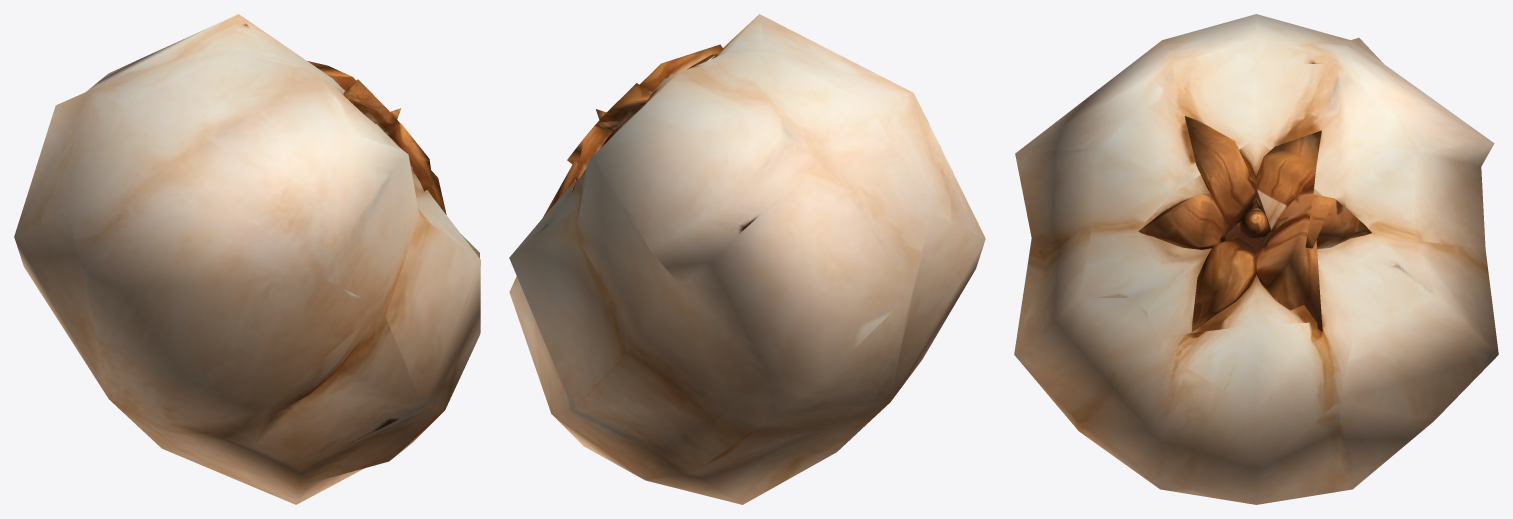
File: kapok_cotton_v2.glb
3 renders of one model, left to right at view 1: azimuth 30°, elevation 25°; view 2: azimuth 150°, elevation 25°; view 3: azimuth 270°, elevation 25°, orthographic.
Parts seen in each view (by area): view 1: tripo_node_e526c411-a617-4434-8ea0-cf73519b89d7; view 2: tripo_node_e526c411-a617-4434-8ea0-cf73519b89d7; view 3: tripo_node_e526c411-a617-4434-8ea0-cf73519b89d7.
Part boxes in pixels (box(x1,y1,x2,y2)): tripo_node_e526c411-a617-4434-8ea0-cf73519b89d7: box(14, 14, 480, 504); tripo_node_e526c411-a617-4434-8ea0-cf73519b89d7: box(509, 14, 985, 504); tripo_node_e526c411-a617-4434-8ea0-cf73519b89d7: box(1014, 14, 1498, 504).
Size of the model in its own units: 0.936 by 0.9731 by 0.9995.
Materials: 1 (1 with a texture image).
